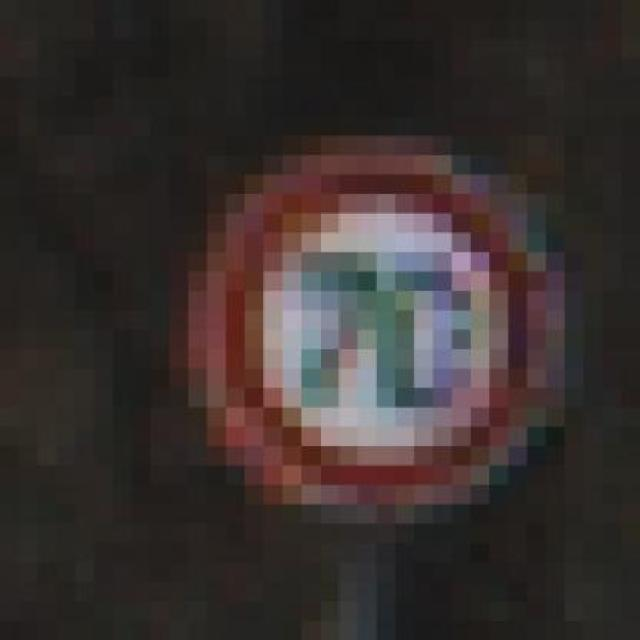forb_speed_over_70: (212, 155, 546, 494)
